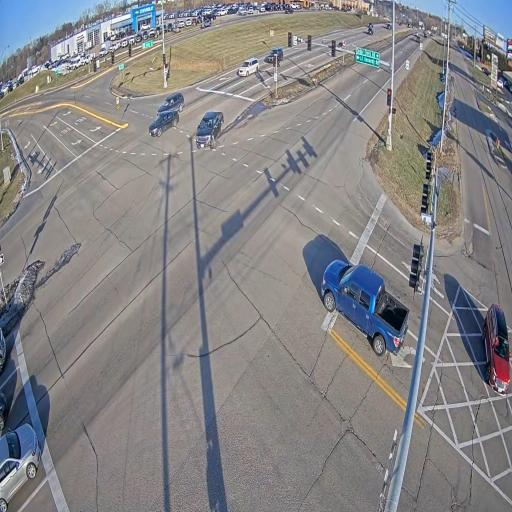pickup: (321, 259, 409, 355), (195, 111, 223, 149), (367, 23, 373, 29), (386, 23, 391, 29)
sedan: (0, 424, 42, 512), (149, 111, 179, 137)
suv: (158, 92, 185, 114), (268, 48, 283, 63), (367, 28, 374, 35), (407, 23, 410, 27), (399, 23, 402, 26)
van: (483, 304, 512, 394), (237, 57, 259, 77)
